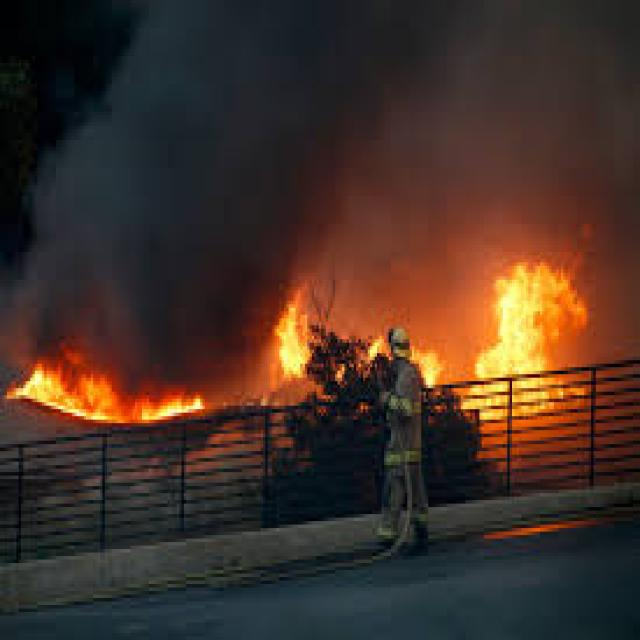Fire: (1, 239, 597, 464)
Smoke: (0, 0, 617, 245)
